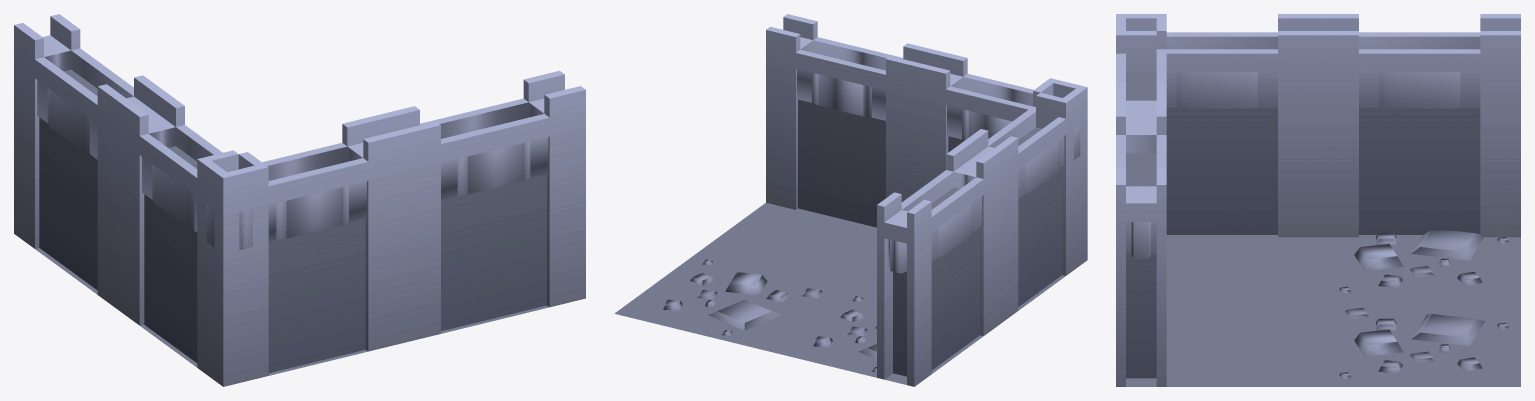
The model's file is tile_12.glb.
3 views of the same model, side by side, from view 1: azimuth 30°, elevation 25°; view 2: azimuth 150°, elevation 25°; view 3: azimuth 270°, elevation 25° (orthographic). The views are drawn at different scales.
Visible parts, largest first — view 1: wall7; view 2: wall7; view 3: wall7.
Boxes of the visible parts, bbox=[...] form: wall7: bbox=[14, 14, 585, 386]; wall7: bbox=[614, 14, 1087, 386]; wall7: bbox=[1116, 14, 1520, 386].
Bounding box in the file's own units: 2 × 1.1 × 2.
8 materials, 8 textured.
